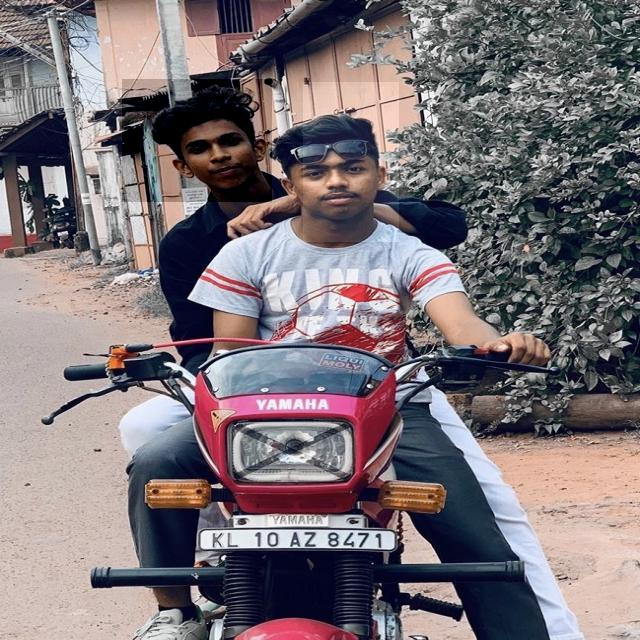No_Helmet: (122, 79, 272, 202), (303, 82, 399, 242)
